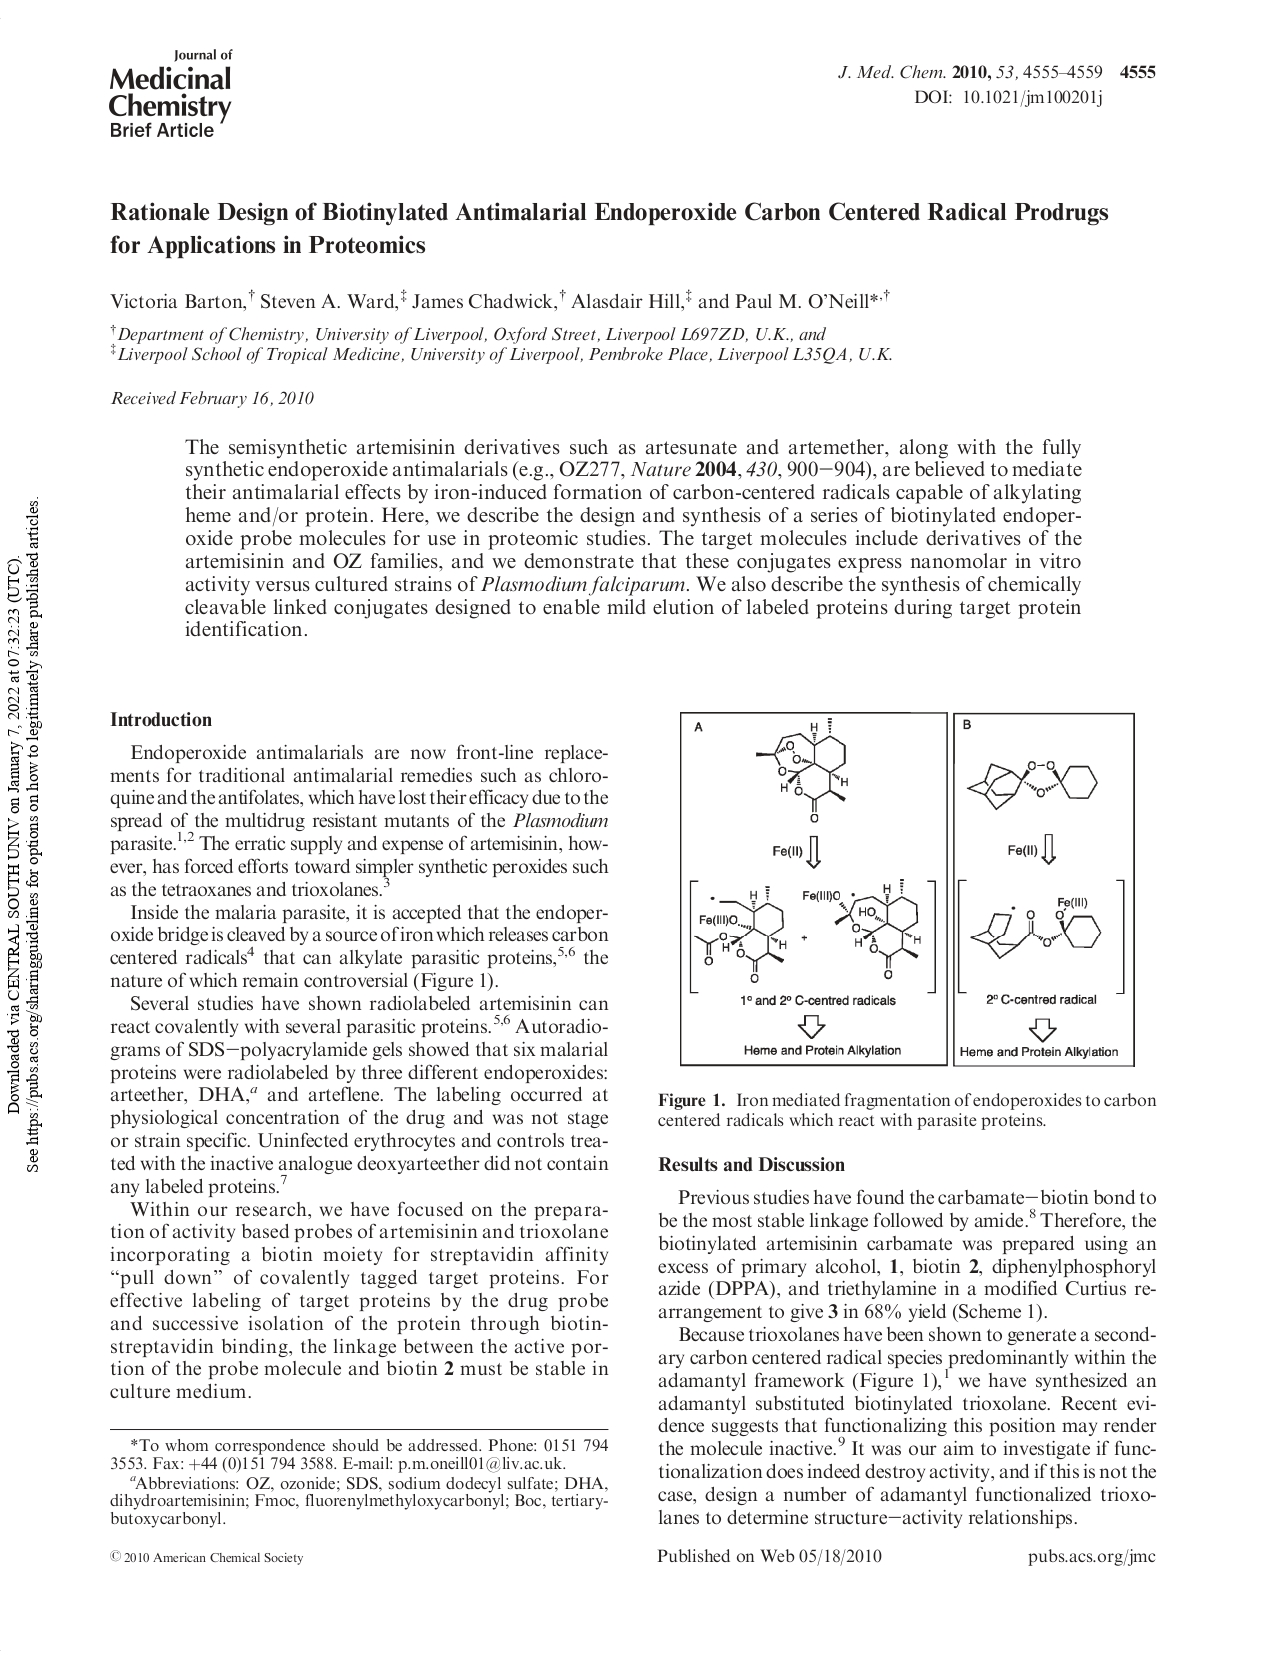exist_molecular: (751, 715, 852, 825), (693, 879, 789, 985), (832, 878, 927, 981), (968, 892, 1106, 963), (965, 754, 1098, 813)
